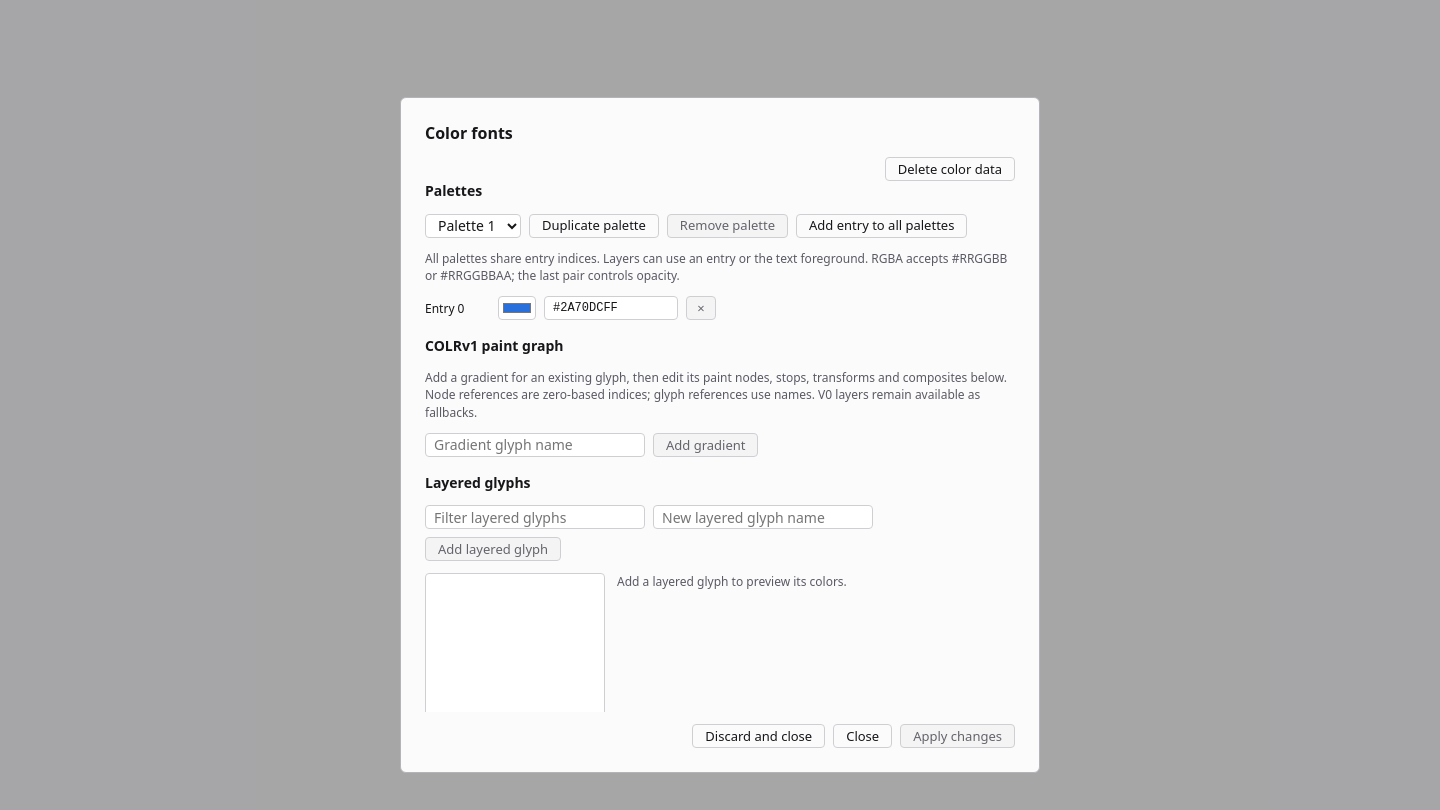
Test: applies an RGBA palette edit and retains selection
Replace the text in the field named "Entry 0 RGBA" with "#FF200080": x=611, y=308 [544, 296, 678, 320]
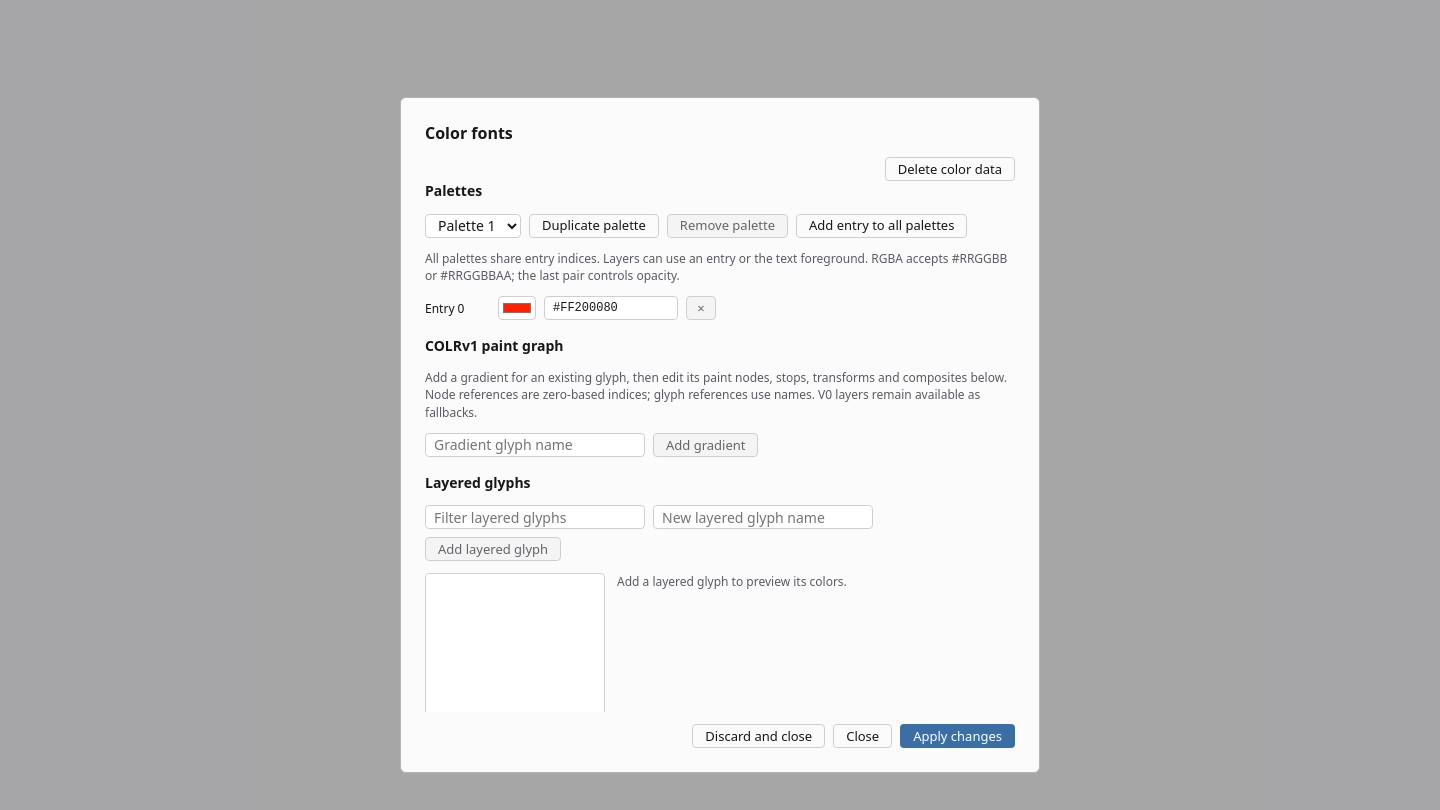
Click the button "Apply changes": x=958, y=736 [900, 724, 1015, 748]
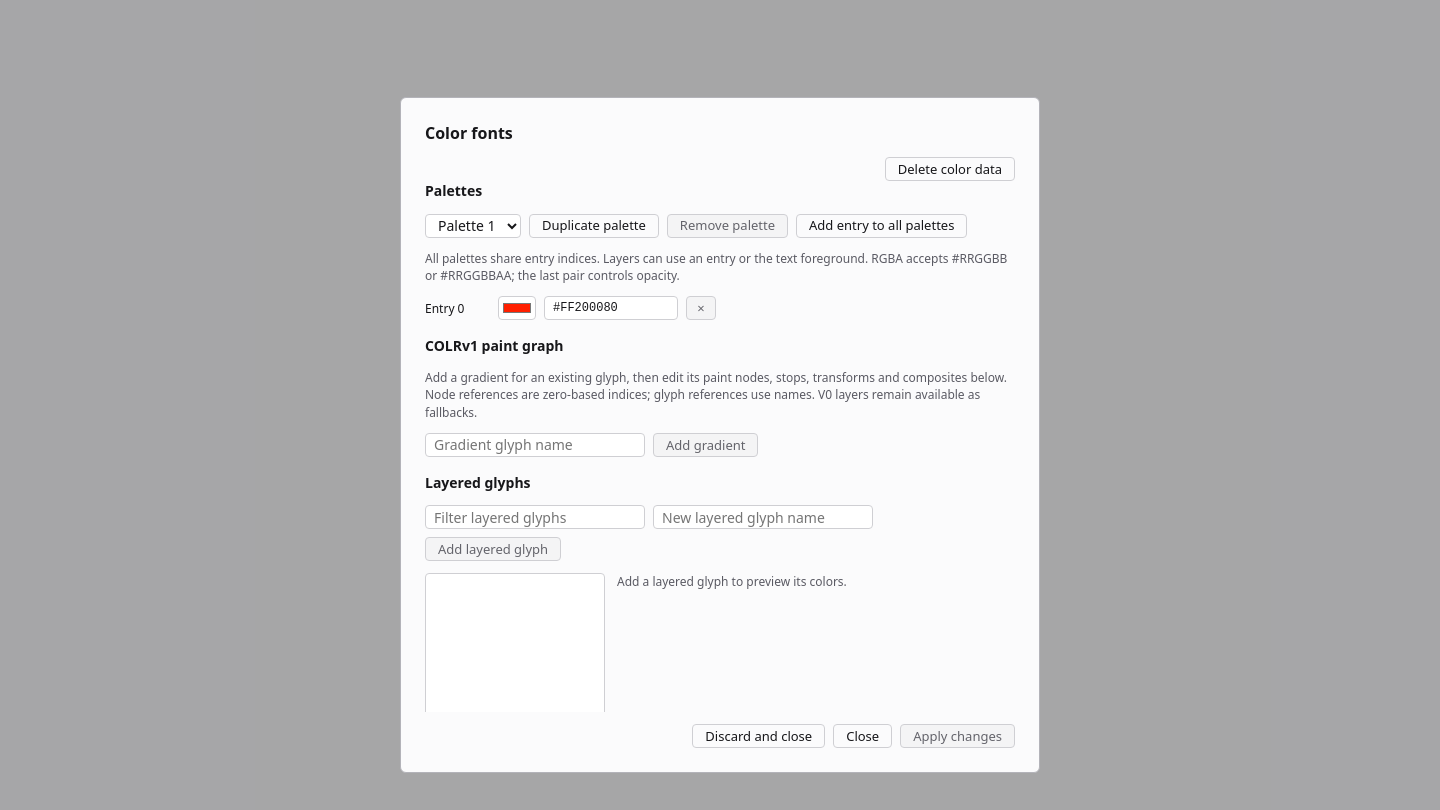
Expected: the button "Apply changes" is disabled, [900, 724, 1015, 748]
